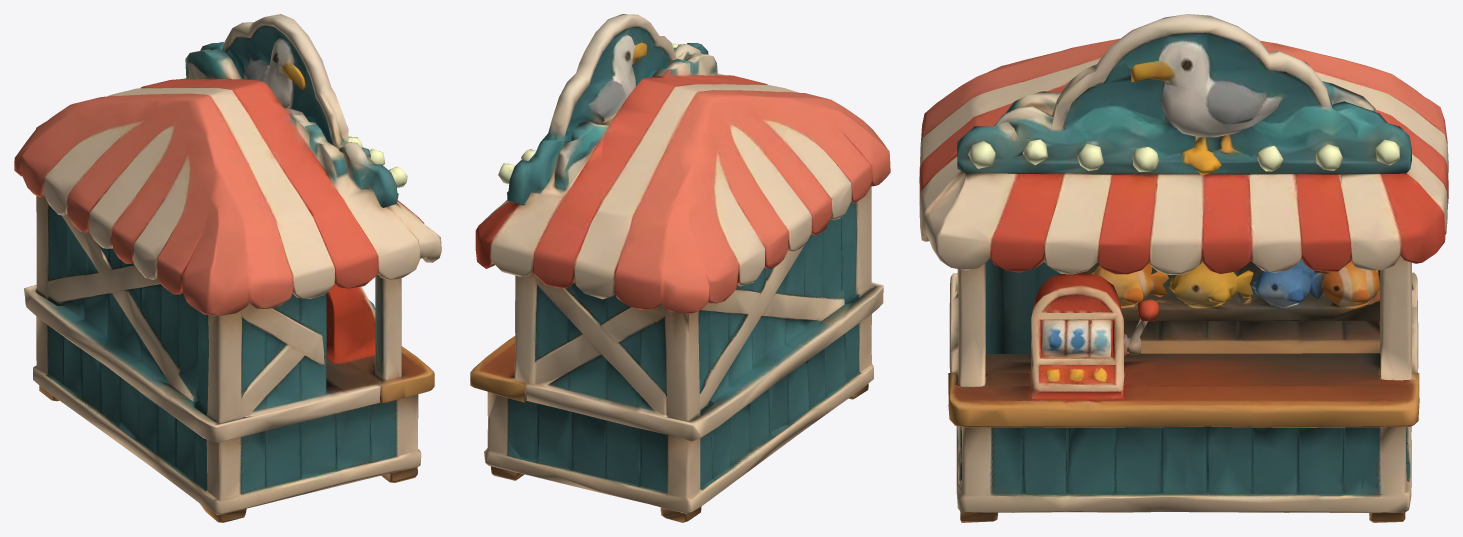
Rendered from arcade.glb.
The picture shows the model from 3 angles, left to right: view 1: azimuth 30°, elevation 25°; view 2: azimuth 150°, elevation 25°; view 3: azimuth 270°, elevation 25°; orthographic projection. The views are drawn at different scales.
Parts seen in each view (by area): view 1: tripo_node_2eb607d0-dac7-4b71-9962-ab459f5eb622; view 2: tripo_node_2eb607d0-dac7-4b71-9962-ab459f5eb622; view 3: tripo_node_2eb607d0-dac7-4b71-9962-ab459f5eb622.
Boxes of the visible parts, x1,y1,x2,y2 form: tripo_node_2eb607d0-dac7-4b71-9962-ab459f5eb622: [14, 14, 441, 522]; tripo_node_2eb607d0-dac7-4b71-9962-ab459f5eb622: [470, 14, 890, 522]; tripo_node_2eb607d0-dac7-4b71-9962-ab459f5eb622: [919, 14, 1448, 522].
Bounding box in the file's own units: 0.654 × 1 × 0.9884.
Materials: 1 (1 with a texture image).
